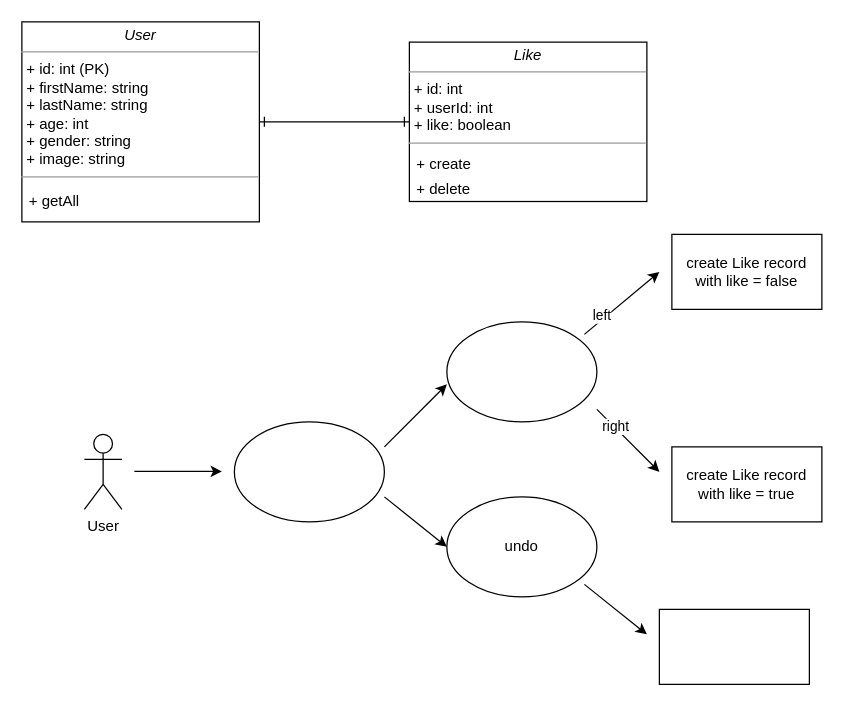
The diagram is 844 pixels wide and 706 high, and some of its shapes have lost their labels. Here are the shapes that lost their labels. From the top down, the box of each, then its label:
(446, 321, 597, 422): swipe
(233, 421, 384, 522): Query for all users not in Like
(658, 608, 809, 684): Delete record in Like table
